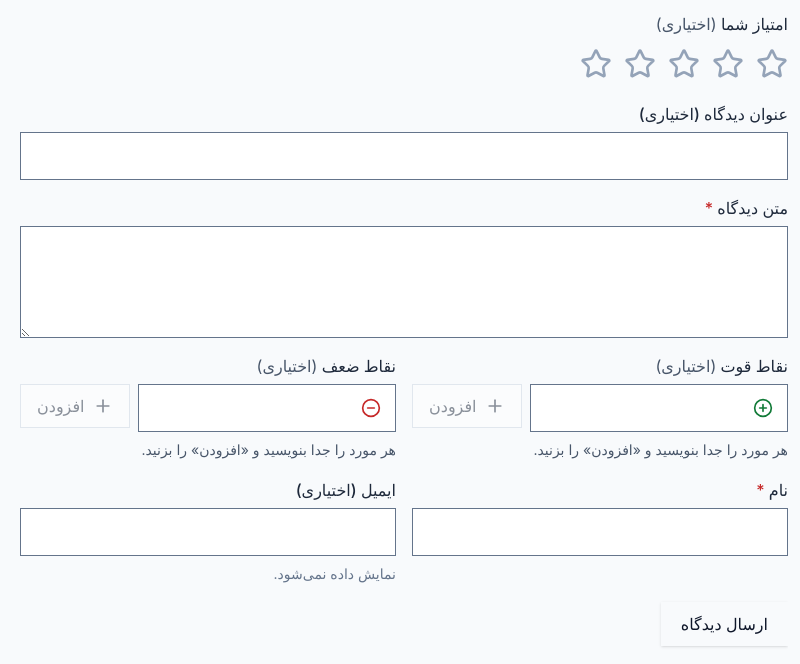
Test: ReviewForm after the API answers › hands back the moderation message and resets the fields
Click the radio button named "۵ ستاره: عالی". click: (596, 64)
box: [580,48,612,80]
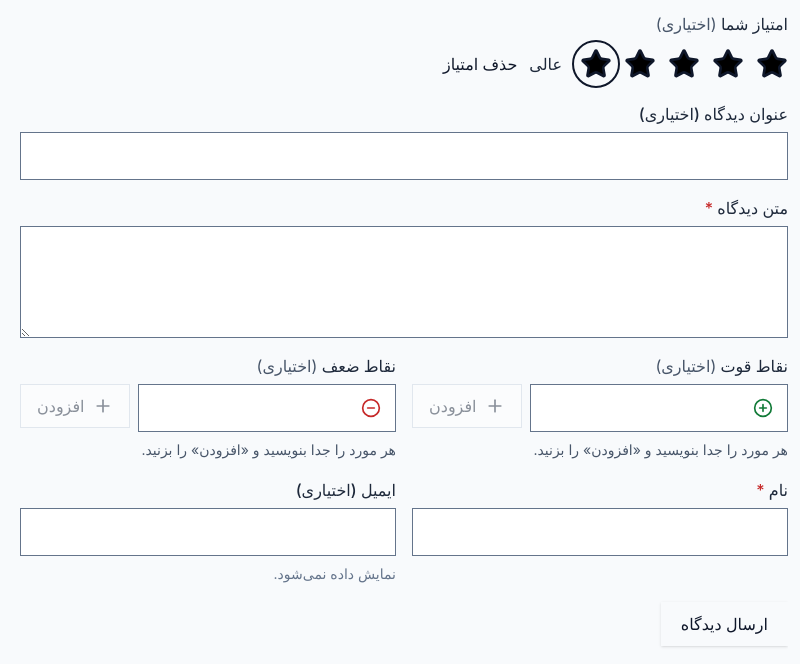
Type "عالی" into the text box labelled "متن دیدگاه *". click: (404, 282)
box: [20,226,788,338]
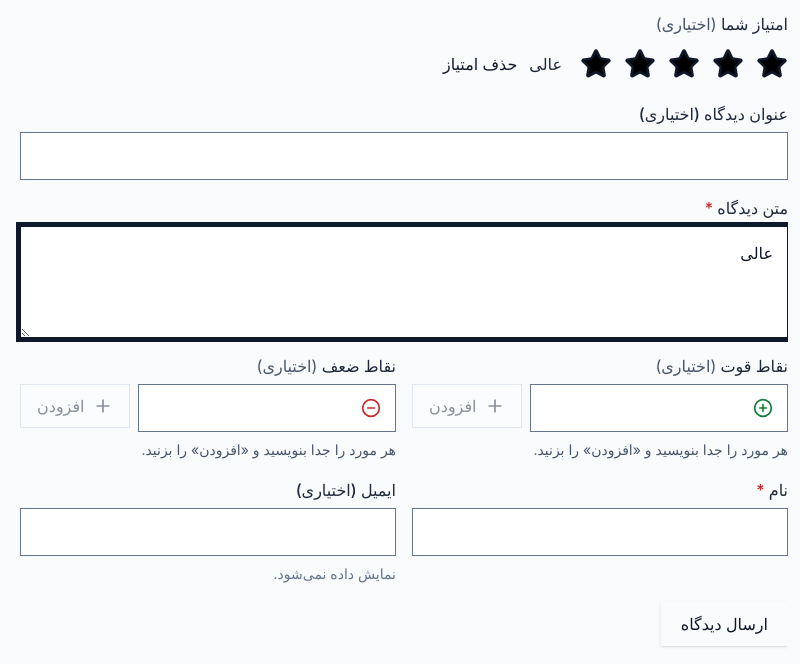
Type "سارا" into the field named "نام (". click: (600, 532)
box: [413,509,787,555]
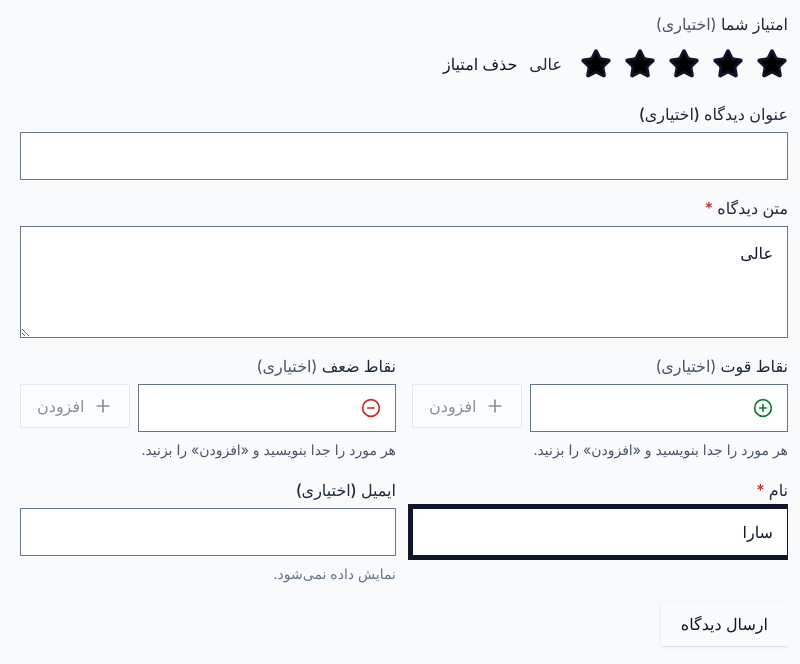
Click the button "ارسال دیدگاه". click: (724, 624)
box: [661,602,788,646]
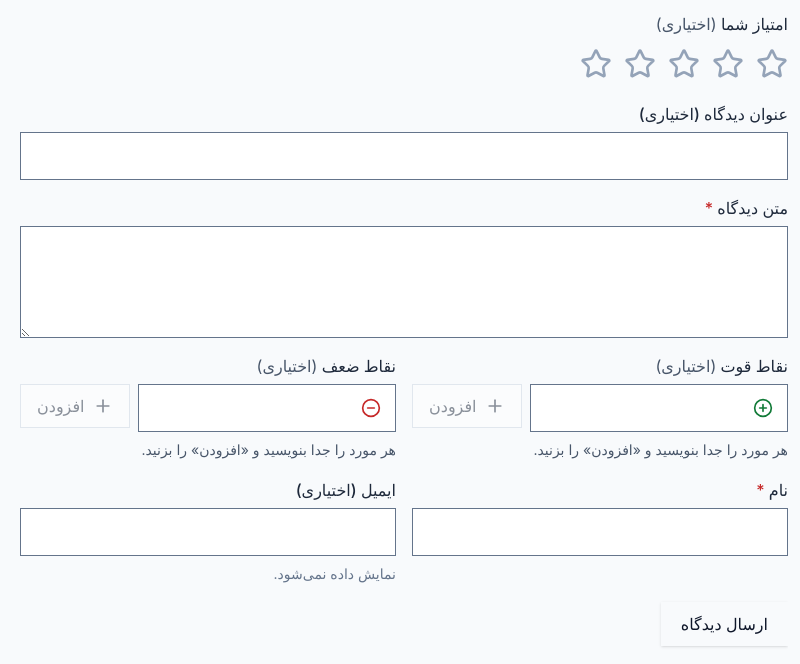
Result: the radio button named "۵ ستاره: عالی" is not checked at [580,48,612,80]
Result: the text box labelled "متن دیدگاه *" is empty at [20,226,788,338]
Result: the field named "نام (" is empty at [413,509,787,555]
